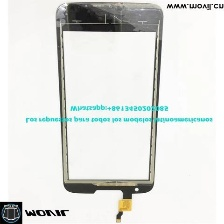phone: (53, 0, 166, 196)
